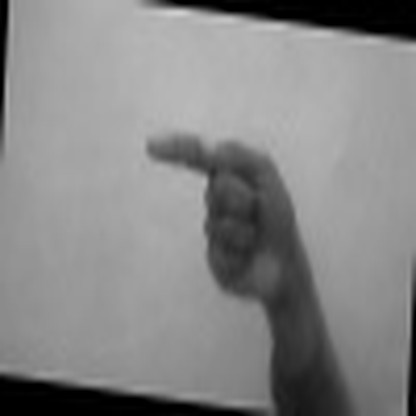g: (126, 113, 329, 302)
